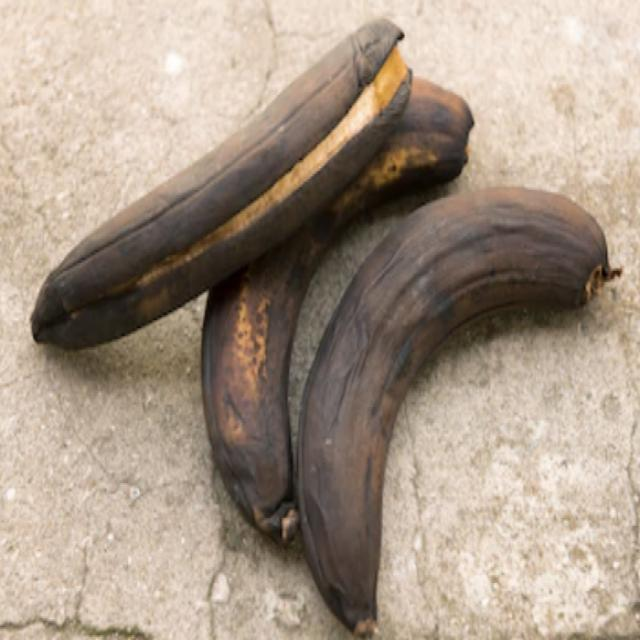rotten-banana: (305, 186, 613, 624), (191, 80, 465, 541), (33, 18, 411, 347)
